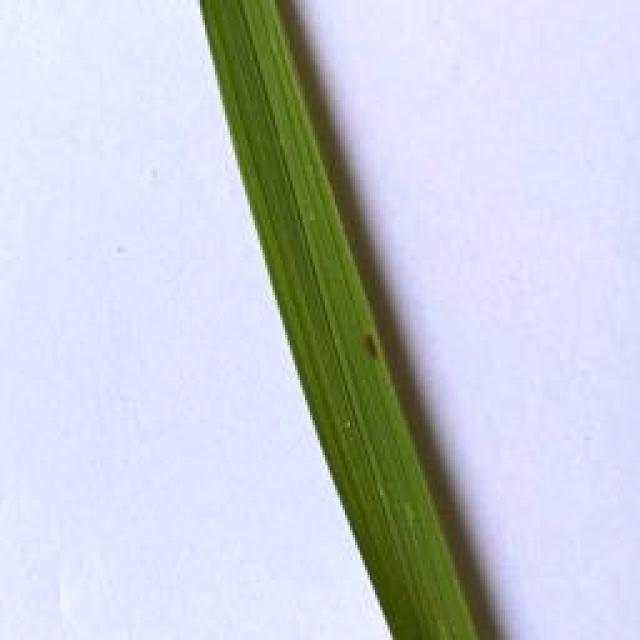Brown_Spot: (353, 325, 388, 366)
